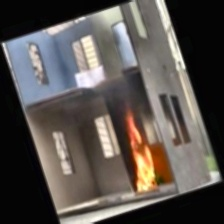fire: (107, 107, 168, 198)
